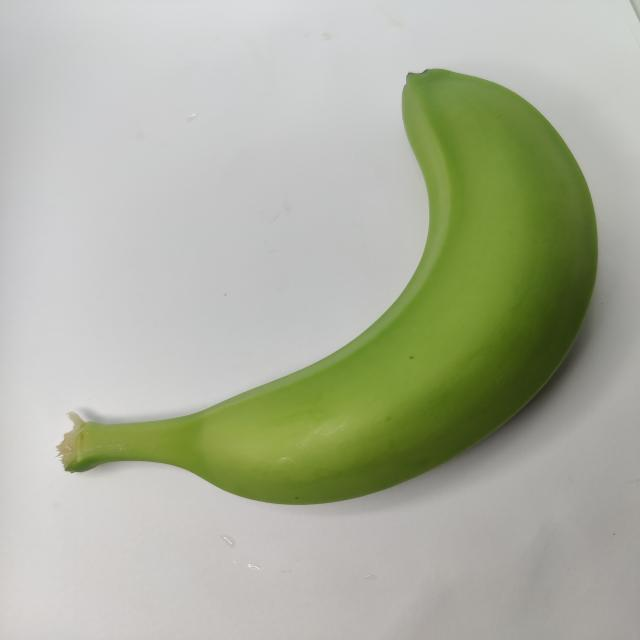raw: (49, 39, 620, 526)
